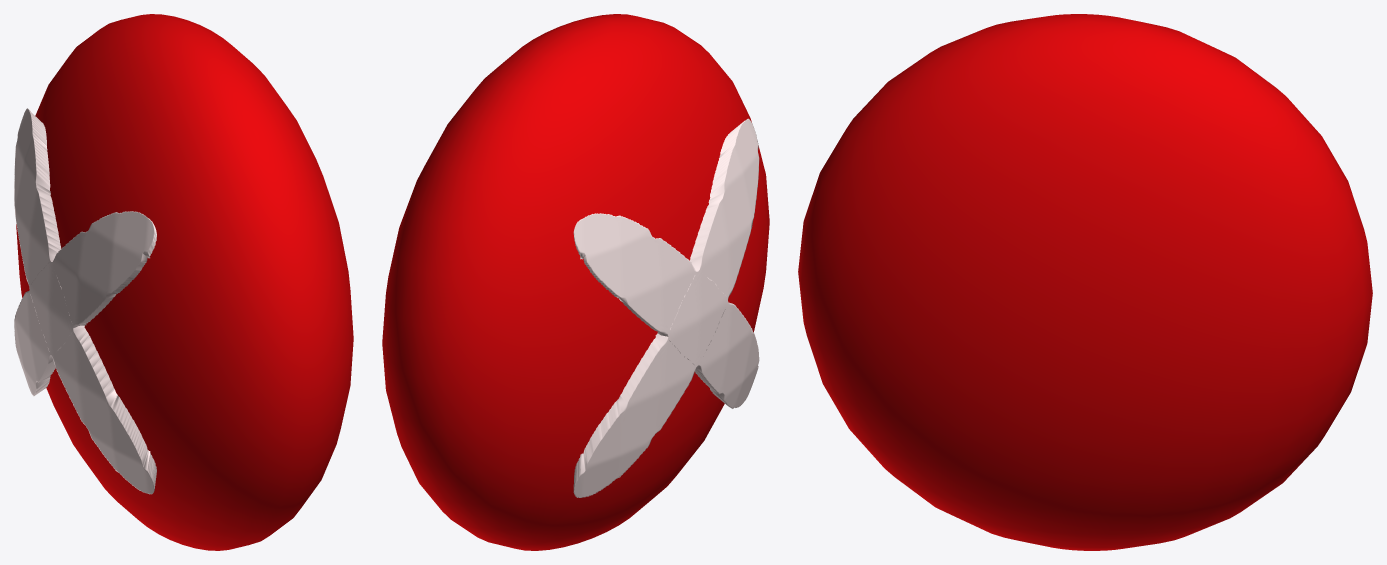
Rendered from BigX.fbx.
3 views of the same model, side by side, from view 1: azimuth 30°, elevation 25°; view 2: azimuth 150°, elevation 25°; view 3: azimuth 270°, elevation 25° (orthographic). The views are drawn at different scales.
Parts seen in each view (by area): view 1: cancel; view 2: cancel; view 3: cancel.
Part boxes in pixels (box(x1,y1,x2,y2)): cancel: box(14, 14, 353, 550); cancel: box(382, 14, 769, 550); cancel: box(798, 14, 1372, 550).
Bounding box in the file's own units: 253 × 475 × 474.
